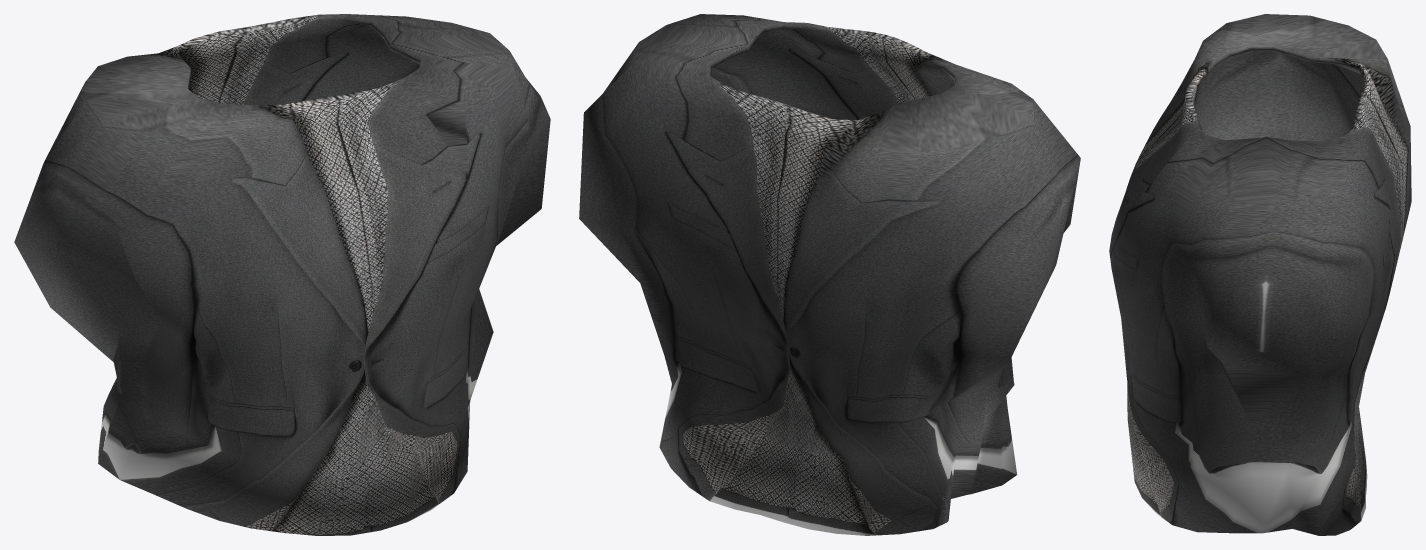
The model's file is ee1ebedf-653e-4244-a215-a6dfeb8aa0e8.glb.
The picture shows the model from 3 angles, left to right: view 1: azimuth 30°, elevation 25°; view 2: azimuth 150°, elevation 25°; view 3: azimuth 270°, elevation 25°; orthographic projection. The views are drawn at different scales.
Parts seen in each view (by area): view 1: garment; view 2: garment; view 3: garment.
Part boxes in pixels (bbox=[...]): garment: bbox=[14, 14, 550, 535]; garment: bbox=[579, 14, 1080, 535]; garment: bbox=[1109, 14, 1411, 535].
Bounding box in the file's own units: 0.5483 × 0.4613 × 0.3221.
1 material, 1 textured.
